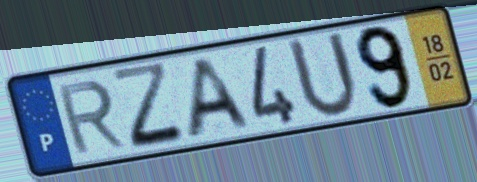4: (249, 42, 300, 128)
9: (351, 23, 420, 112)
A: (183, 55, 257, 143)
R: (53, 77, 129, 158)
U: (283, 29, 362, 123)
Z: (108, 58, 192, 152)
